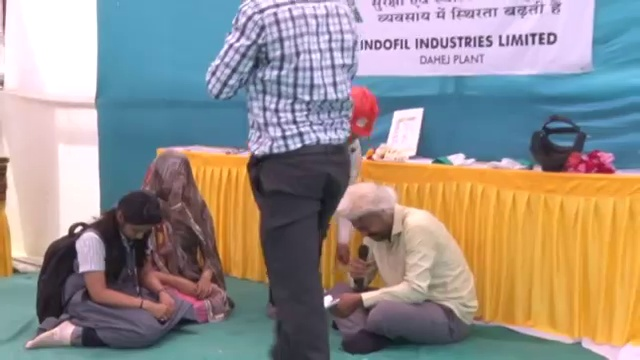helmet: (348, 83, 381, 142)
helmet_off: (341, 181, 405, 244), (147, 154, 197, 215), (108, 193, 161, 245)
person: (199, 1, 360, 360), (28, 184, 189, 354), (327, 181, 481, 351), (135, 149, 230, 324)
